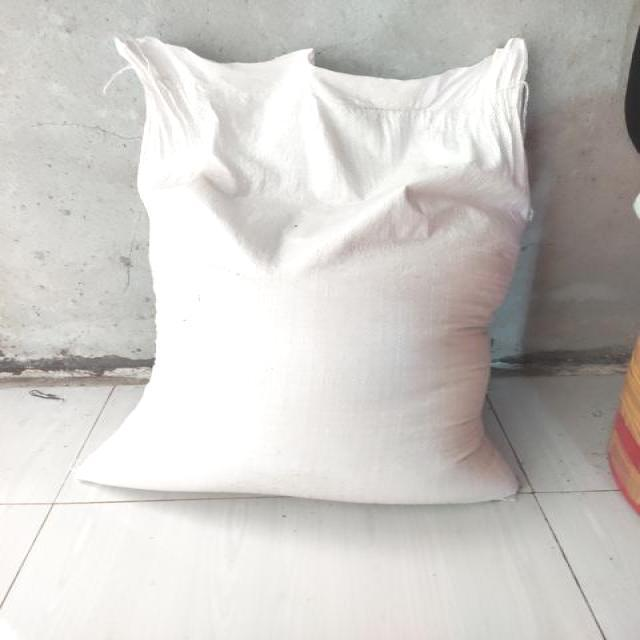gunny_bag: (76, 37, 529, 504)
